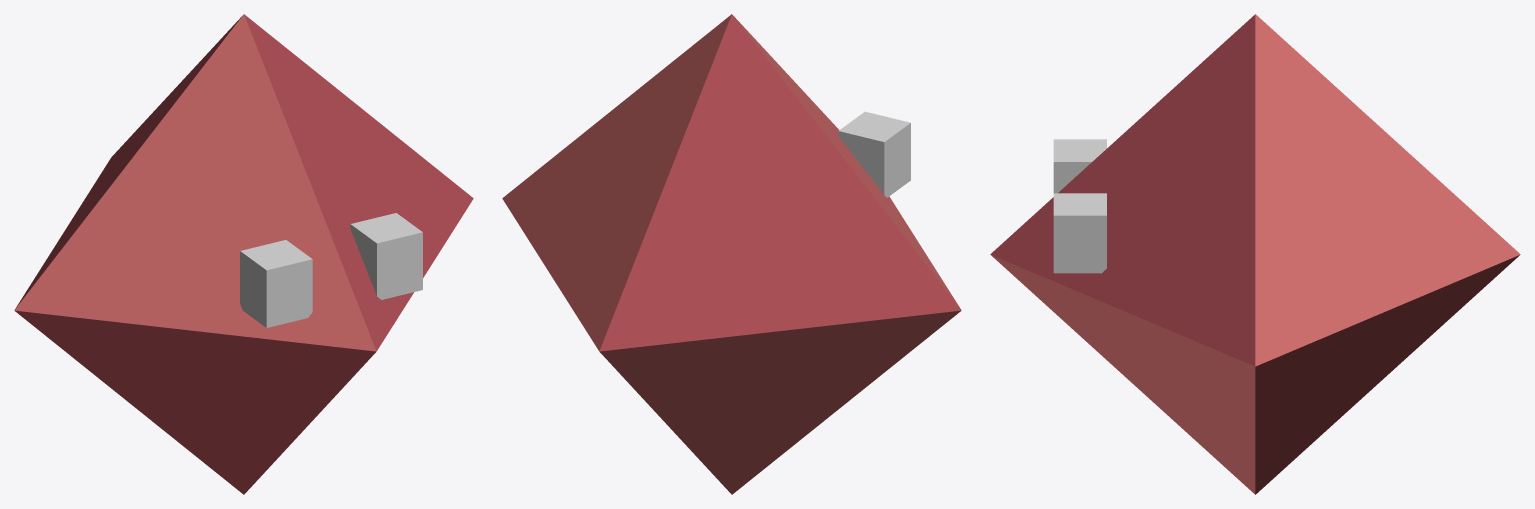
The model's file is enemy.glb.
The picture shows the model from 3 angles, left to right: view 1: azimuth 30°, elevation 25°; view 2: azimuth 150°, elevation 25°; view 3: azimuth 270°, elevation 25°; orthographic projection.
Parts seen in each view (by area): view 1: enemy; view 2: enemy; view 3: enemy.
Boxes of the visible parts, left/top/right/bottom form: enemy: left=14, top=14, right=473, bottom=494; enemy: left=502, top=14, right=961, bottom=494; enemy: left=990, top=14, right=1520, bottom=494.
Bounding box in the file's own units: 1 × 1 × 1.
